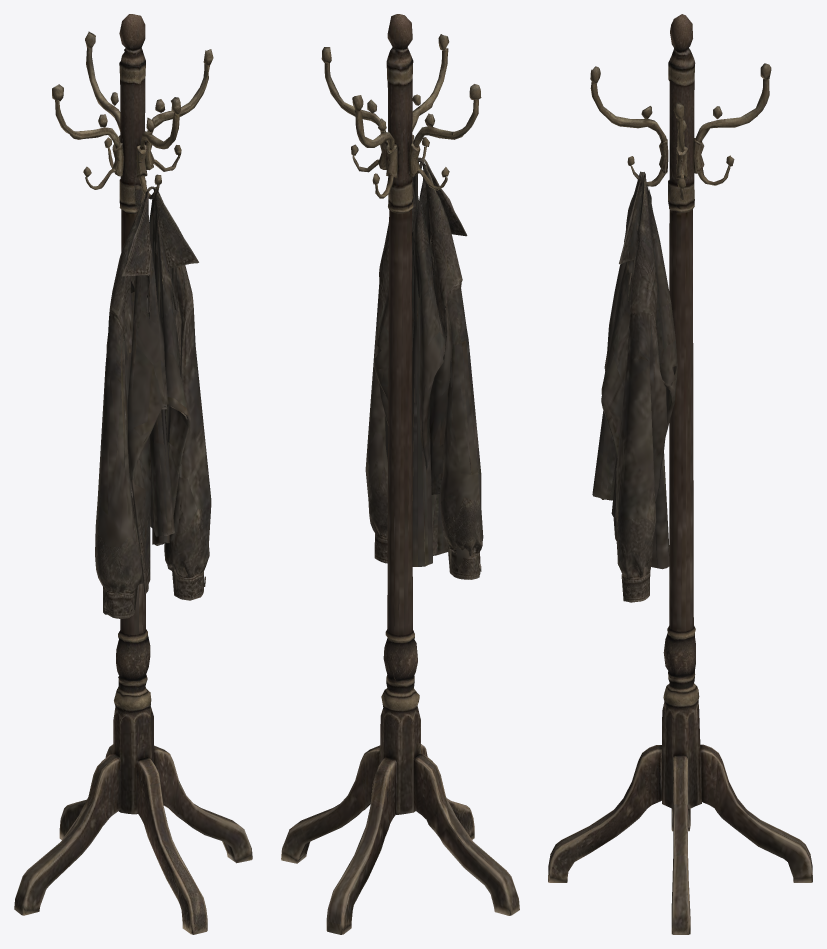
File: p7-coat-rack-t25.glb
3 renders of one model, left to right at view 1: azimuth 30°, elevation 25°; view 2: azimuth 150°, elevation 25°; view 3: azimuth 270°, elevation 25°, orthographic.
Parts seen in each view (by area): view 1: p7-coat-rack-t25; view 2: p7-coat-rack-t25; view 3: p7-coat-rack-t25.
Boxes of the visible parts, x1,y1,x2,y2 form: p7-coat-rack-t25: (14,14,252,934); p7-coat-rack-t25: (281,14,519,934); p7-coat-rack-t25: (548,14,812,934).
Size of the model in its own units: 0.5 by 1.8 by 0.5.
Materials: 1 (1 with a texture image).
